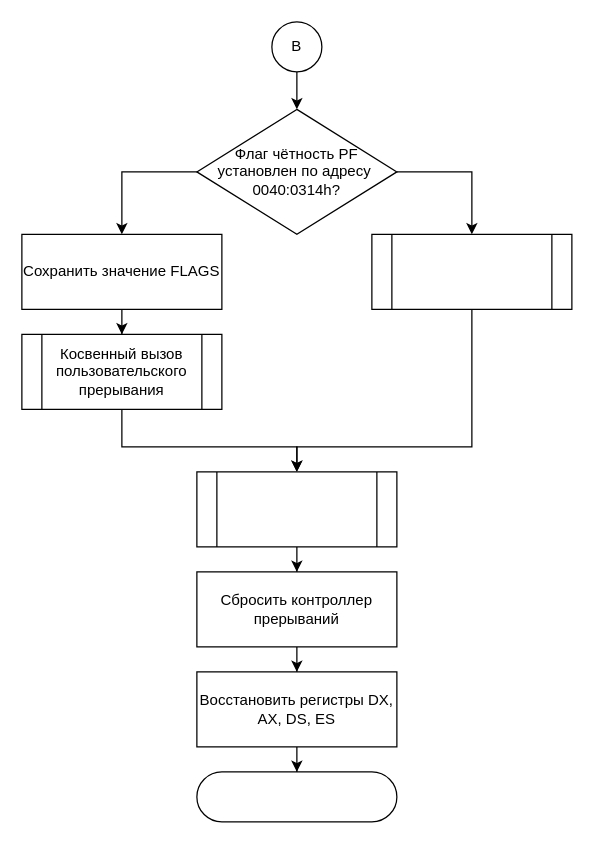
The diagram is 594 pixels wide and 844 high, and some of its shapes have lost their labels. The shapes that lost their labels are listed below. From the top down, each one's box as (x1, y1, x2, y2) in pixels, then its label:
(371, 233, 572, 309): Вызвать прерывание 1Ch
(196, 471, 397, 547): Вызвать sub_4
(196, 771, 397, 822): Конец
